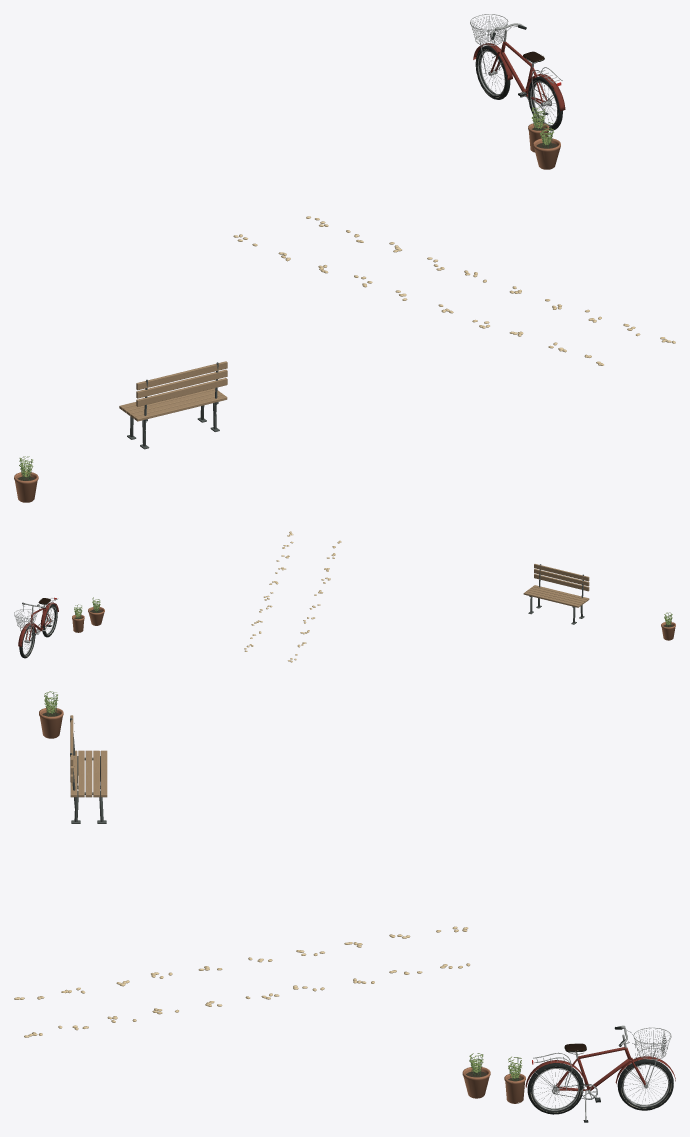
Rendered from house-v11.glb.
3 renders of one model, top to bottom at view 1: azimuth 30°, elevation 25°; view 2: azimuth 150°, elevation 25°; view 3: azimuth 270°, elevation 25°, orthographic. The views are drawn at different scales.
Visible parts, largest first — view 1: v9_garden; view 2: v9_garden; view 3: v9_garden.
Boxes of the visible parts, x1,y1,x2,y2 form: v9_garden: (14,14,675,502); v9_garden: (14,531,675,662); v9_garden: (14,691,675,1122).
Size of the model in its own units: 11.06 by 1.07 by 7.89.
14 materials, 4 textured.
